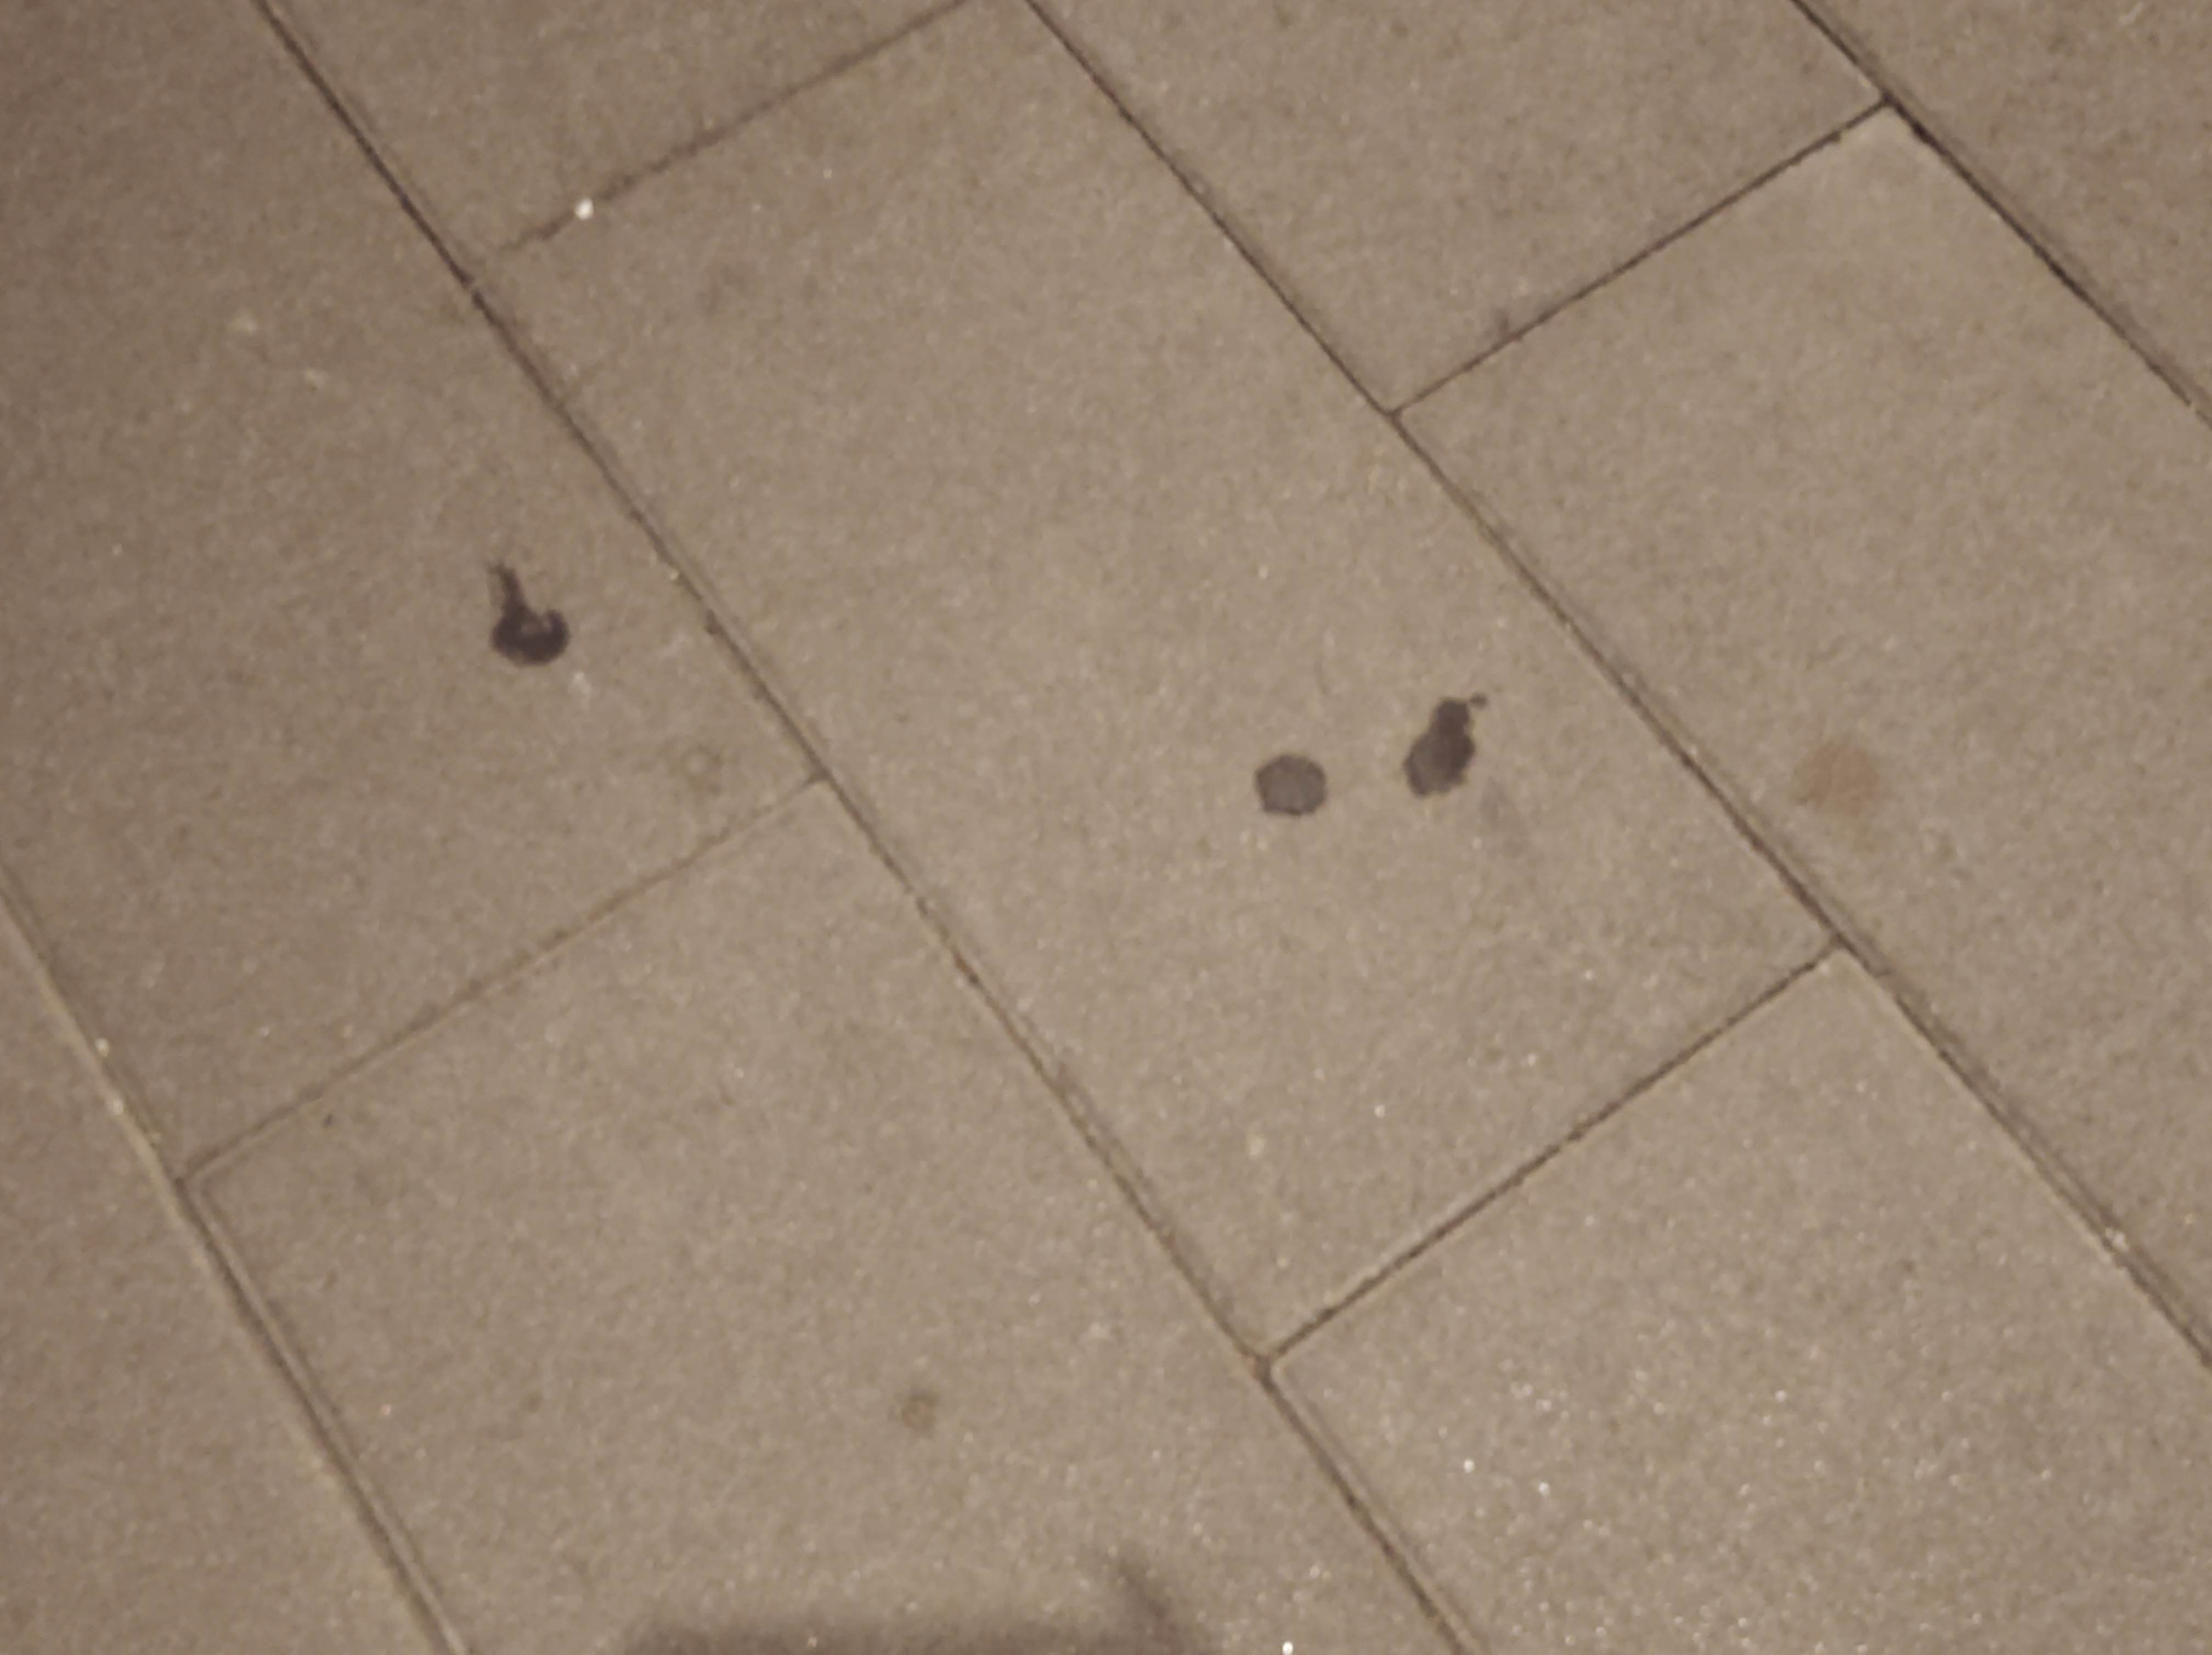grey spot: (488, 563, 570, 668), (1406, 694, 1477, 798), (1256, 754, 1324, 817)
